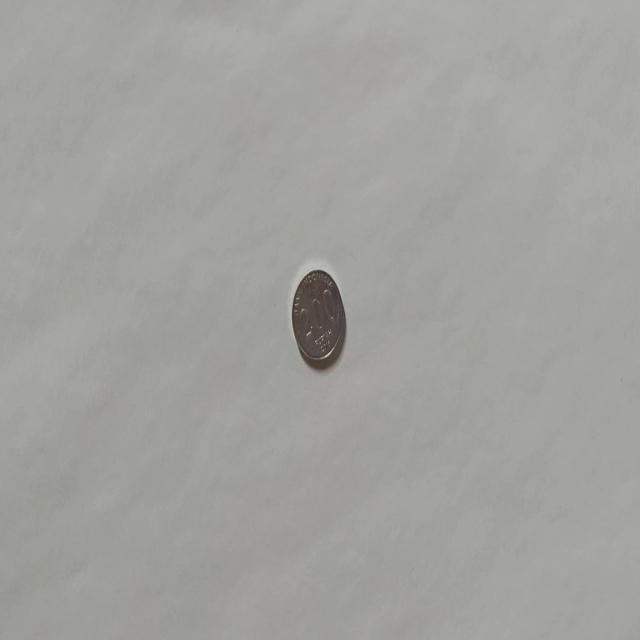dua ratus rupiah: (290, 266, 346, 366)
